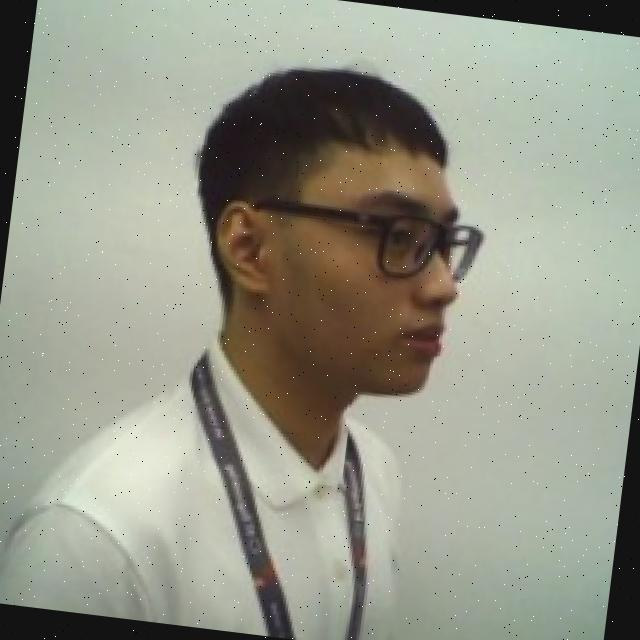no_gloves: (189, 42, 476, 229)
no_hairnet: (199, 208, 470, 406)
